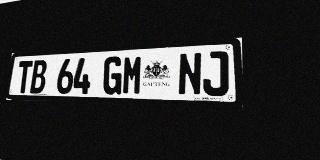4: (72, 58, 92, 94)
6: (56, 58, 75, 94)
B: (30, 60, 47, 94)
G: (102, 56, 123, 95)
J: (203, 51, 229, 96)
M: (122, 55, 143, 95)
N: (178, 52, 202, 96)
T: (16, 61, 33, 93)
